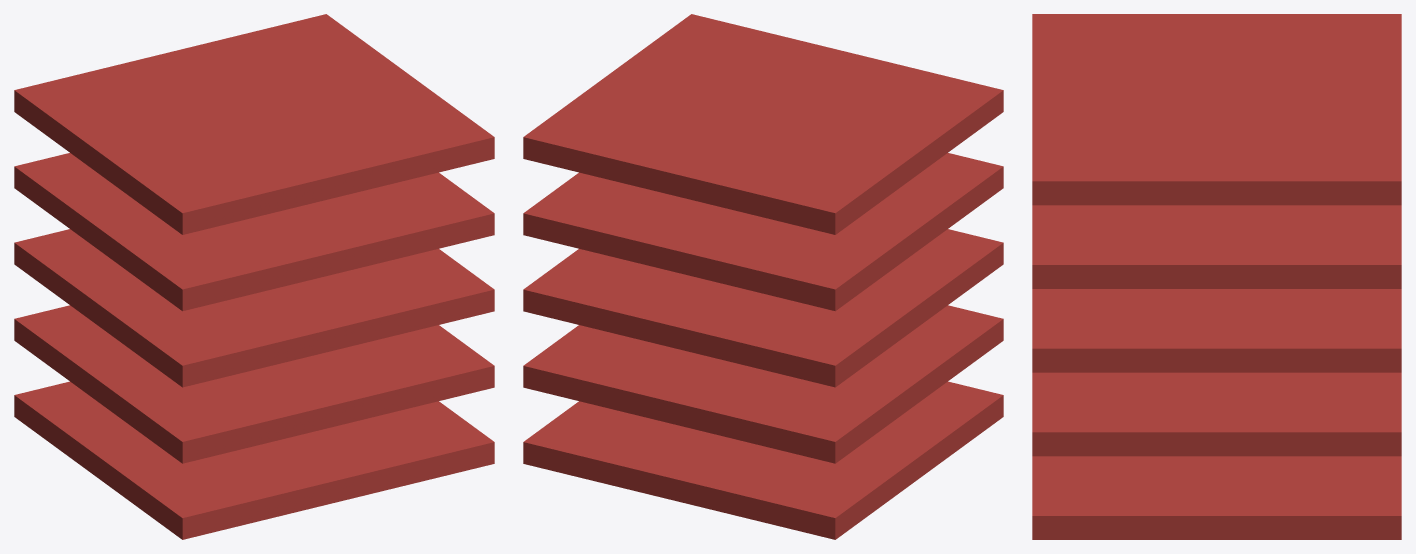
The model's file is fins_lod2.glb.
3 views of the same model, side by side, from view 1: azimuth 30°, elevation 25°; view 2: azimuth 150°, elevation 25°; view 3: azimuth 270°, elevation 25° (orthographic). The views are drawn at different scales.
Visible parts, largest first — view 1: fins_lod2; view 2: fins_lod2; view 3: fins_lod2.
Boxes of the visible parts, box(x1,y1,x2,y2) form: fins_lod2: box(14, 14, 494, 539); fins_lod2: box(523, 14, 1003, 539); fins_lod2: box(1032, 14, 1401, 539).
Bounding box in the file's own units: 0.15 × 0.15 × 0.14.
